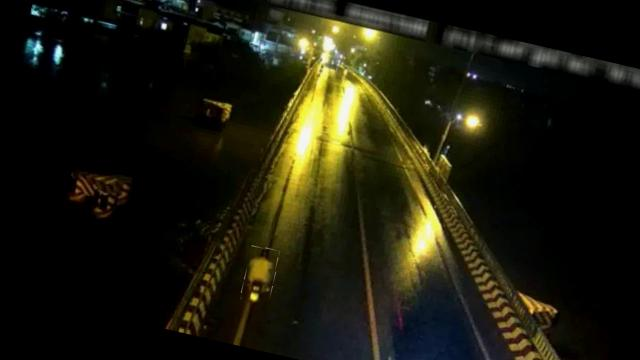Bike: (238, 245, 280, 306)
